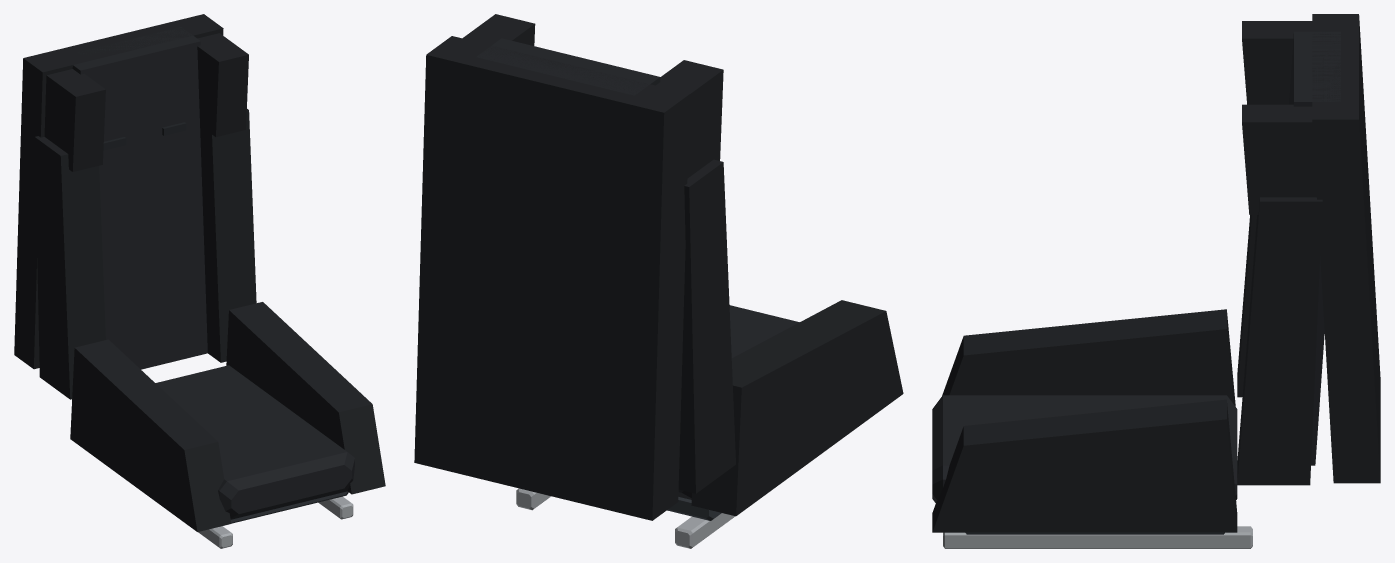
File: brute_500.glb
The picture shows the model from 3 angles, left to right: view 1: azimuth 30°, elevation 25°; view 2: azimuth 150°, elevation 25°; view 3: azimuth 270°, elevation 25°; orthographic projection. The views are drawn at different scales.
Parts seen in each view (by area): view 1: model; view 2: model; view 3: model.
Part boxes in pixels (bbox=[...]): model: bbox=[14, 14, 385, 548]; model: bbox=[414, 14, 903, 548]; model: bbox=[932, 14, 1380, 548].
Size of the model in its own units: 0.5 by 0.94 by 0.86.
4 materials, 1 textured.
